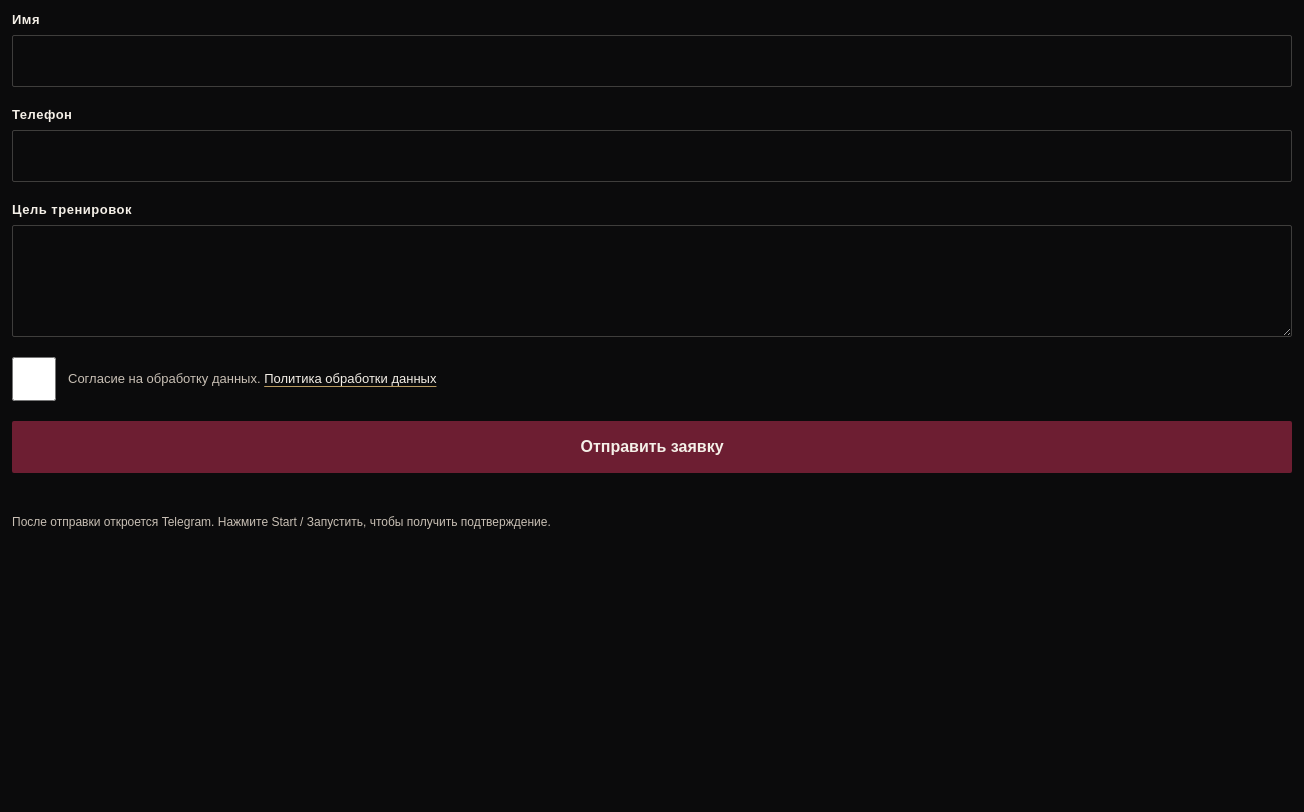
Scenario: LeadForm › marks the first invalid field and focuses it after submit
The image size is (1304, 812).
What coordinates should you click on to do the following:
click the button "Отправить заявку"
I would click on:
 (652, 447)
Its box is [12, 421, 1292, 473].
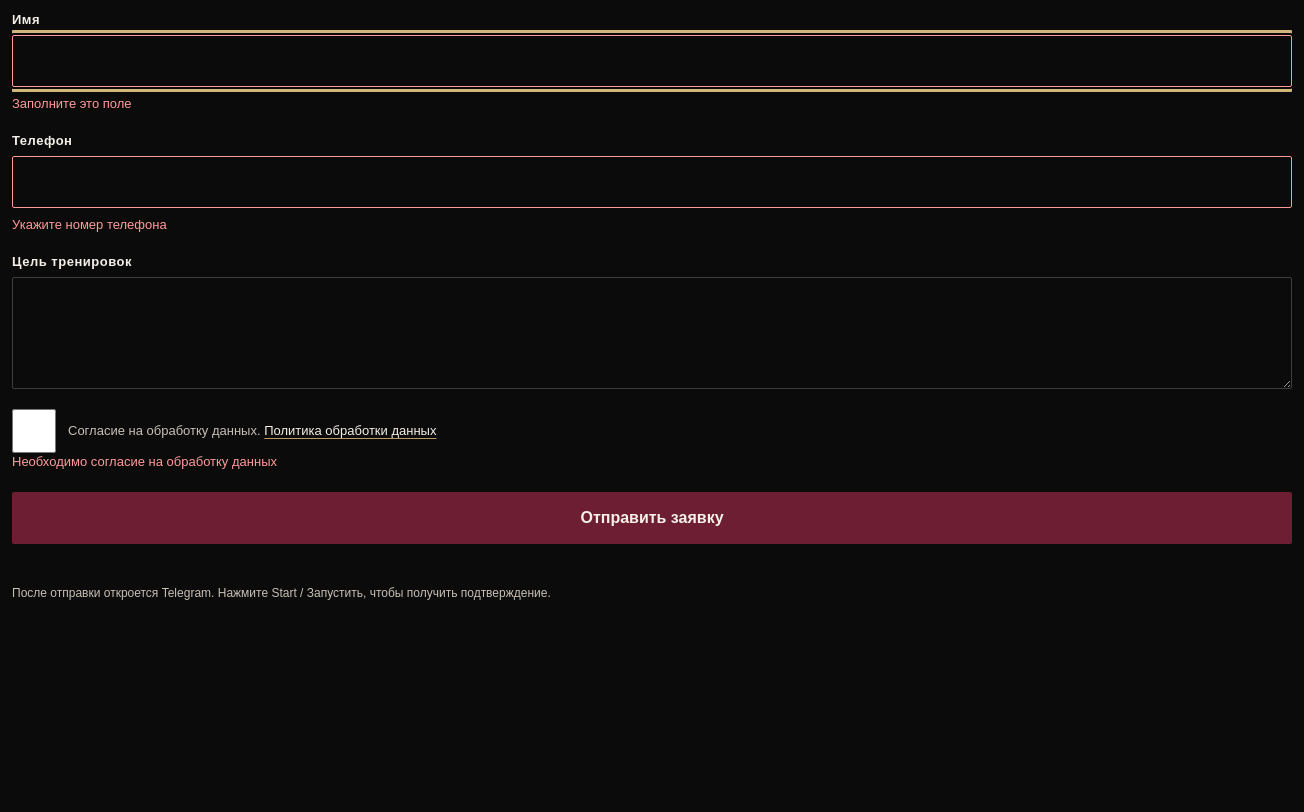
Result: the text "Заполните это поле" is shown at [12, 96, 132, 111]
